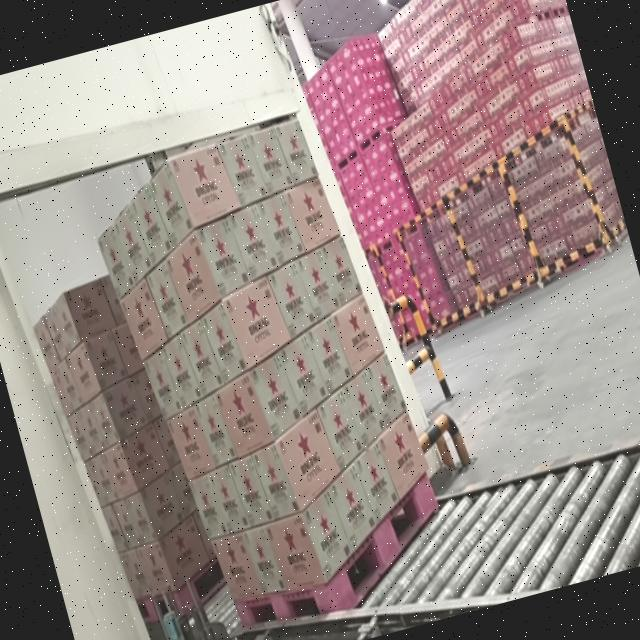pallet: (76, 96, 467, 640), (21, 254, 253, 640)
